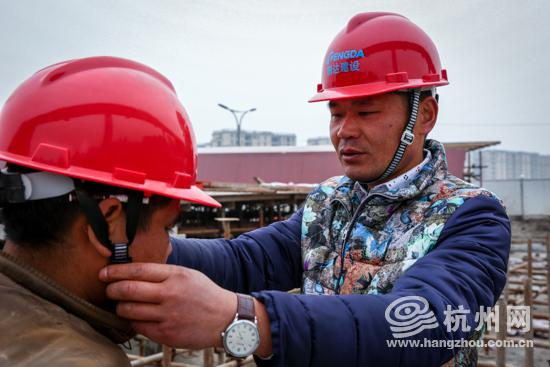helmet: (0, 50, 221, 323), (305, 4, 452, 184)
